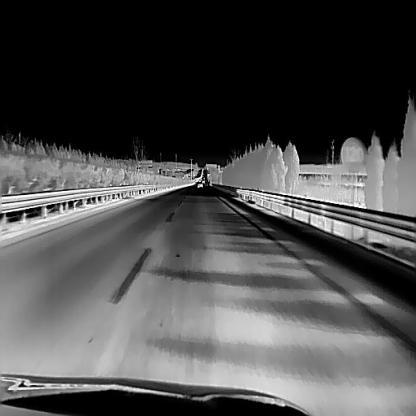car: (196, 179, 202, 187)
